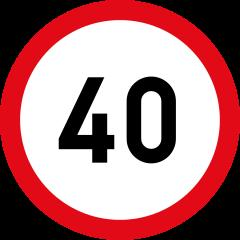Speed limit -40-: (49, 59, 184, 173)
